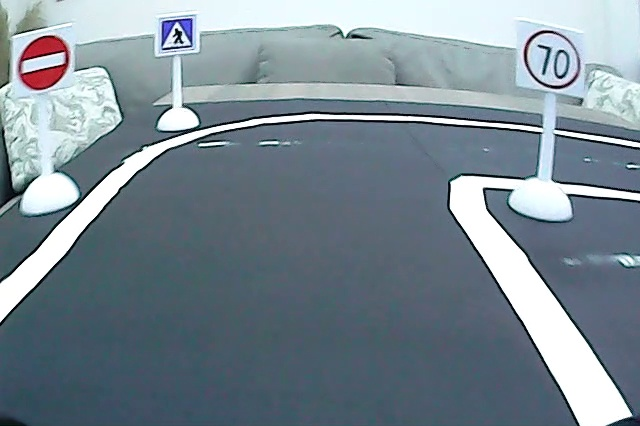do not enter: (12, 31, 76, 94)
pedestrian crossing: (156, 15, 200, 57)
speed limit 70: (518, 25, 585, 94)
